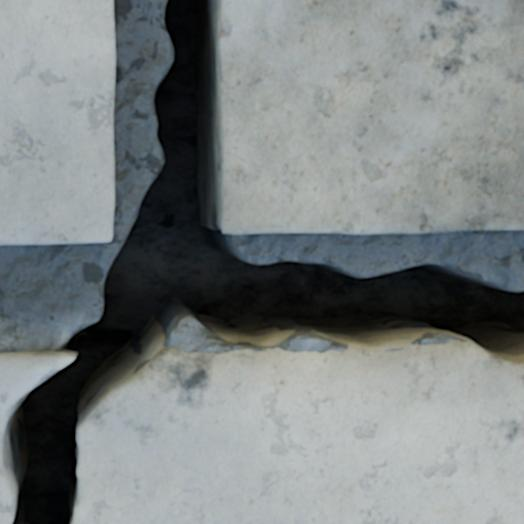brick: (219, 0, 523, 233), (0, 0, 114, 244)
broken_brick: (77, 340, 523, 523), (0, 350, 70, 433), (0, 468, 11, 523)
crack: (0, 0, 523, 523)
